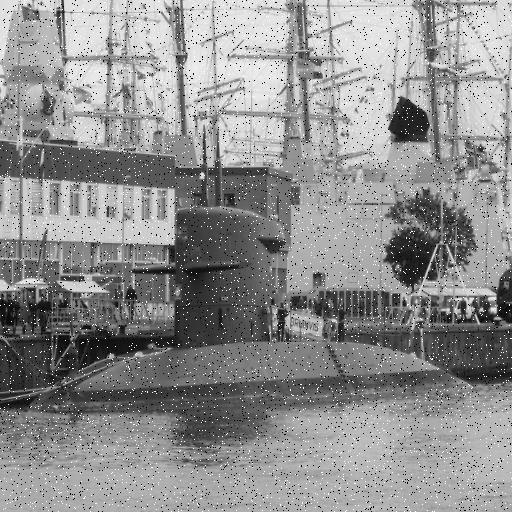submarine: (30, 122, 470, 409)
